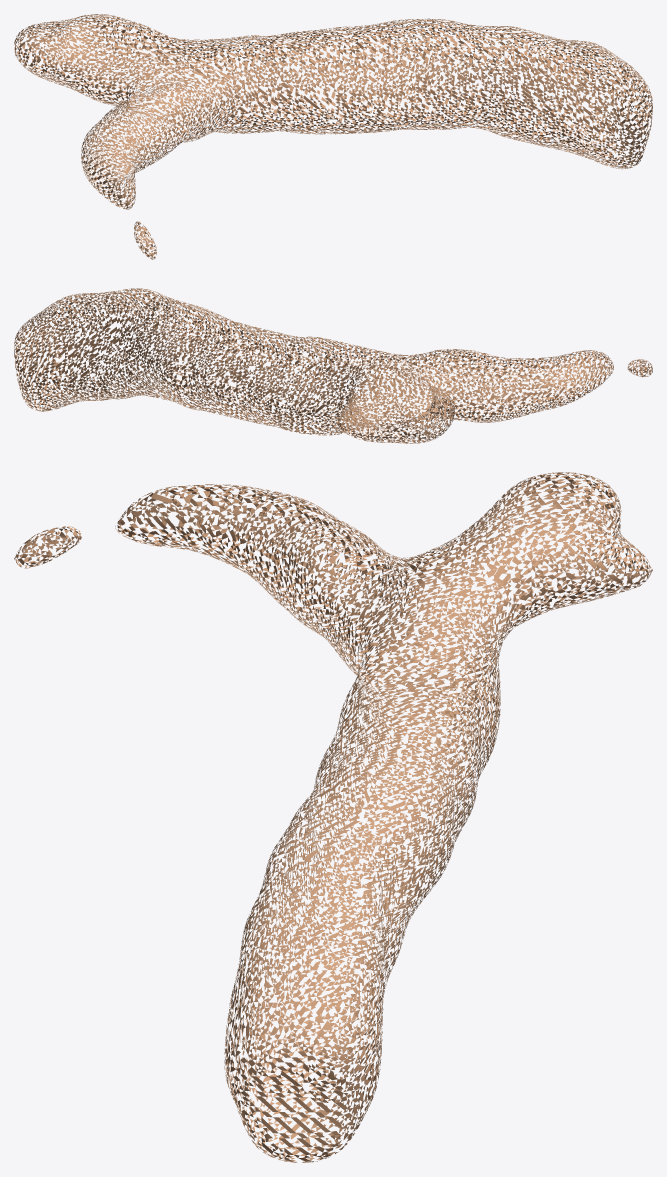
File: morph_005.glb
3 views of the same model, one above another, from view 1: azimuth 30°, elevation 25°; view 2: azimuth 150°, elevation 25°; view 3: azimuth 270°, elevation 25° (orthographic). The views are drawn at different scales.
Size of the model in its own units: 133 by 42.29 by 79.95.
